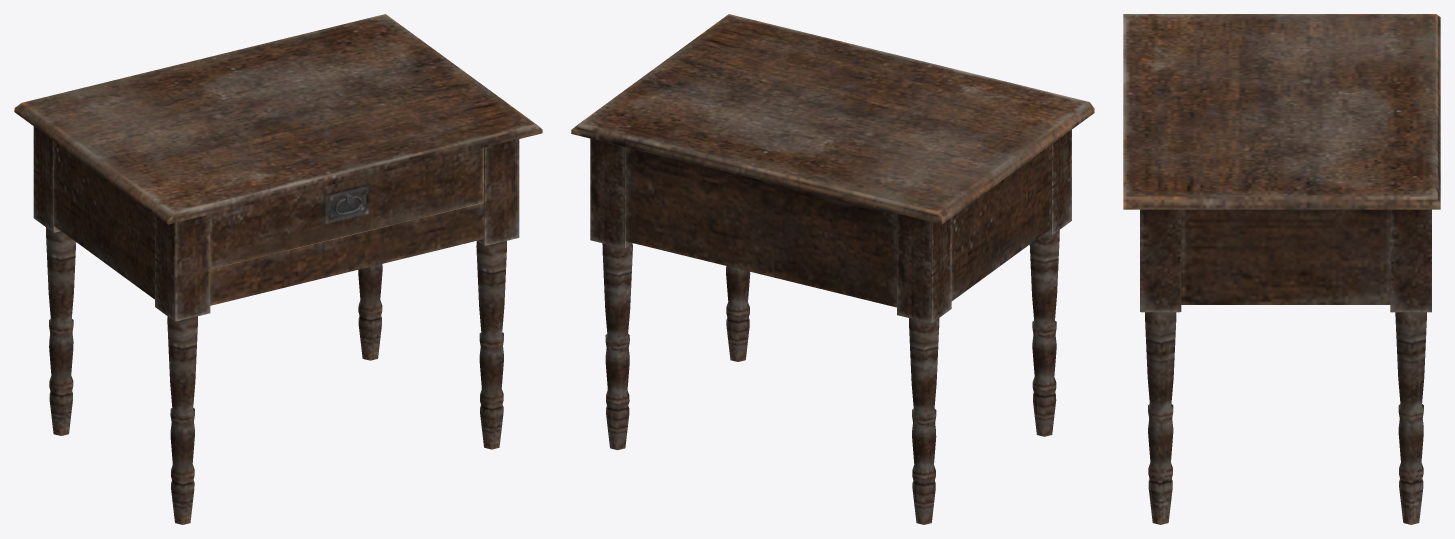
Rendered from 063_WoodTable.fbx.
3 renders of one model, left to right at view 1: azimuth 30°, elevation 25°; view 2: azimuth 150°, elevation 25°; view 3: azimuth 270°, elevation 25°, orthographic. The views are drawn at different scales.
Visible parts, largest first — view 1: LOD_1_Group_0_Sub_1__sm30_063_WoodTable01A_A_Mat, LOD_1_Group_1_Sub_1__sm30_063_WoodTable01A_A_Mat; view 2: LOD_1_Group_0_Sub_1__sm30_063_WoodTable01A_A_Mat; view 3: LOD_1_Group_0_Sub_1__sm30_063_WoodTable01A_A_Mat.
Boxes of the visible parts, left/top/right/bottom form: LOD_1_Group_0_Sub_1__sm30_063_WoodTable01A_A_Mat: left=14, top=14, right=542, bottom=524; LOD_1_Group_1_Sub_1__sm30_063_WoodTable01A_A_Mat: left=210, top=147, right=483, bottom=268; LOD_1_Group_0_Sub_1__sm30_063_WoodTable01A_A_Mat: left=571, top=14, right=1094, bottom=524; LOD_1_Group_0_Sub_1__sm30_063_WoodTable01A_A_Mat: left=1123, top=14, right=1440, bottom=524.
Bounding box in the file's own units: 1.08 × 0.8989 × 0.7659.
